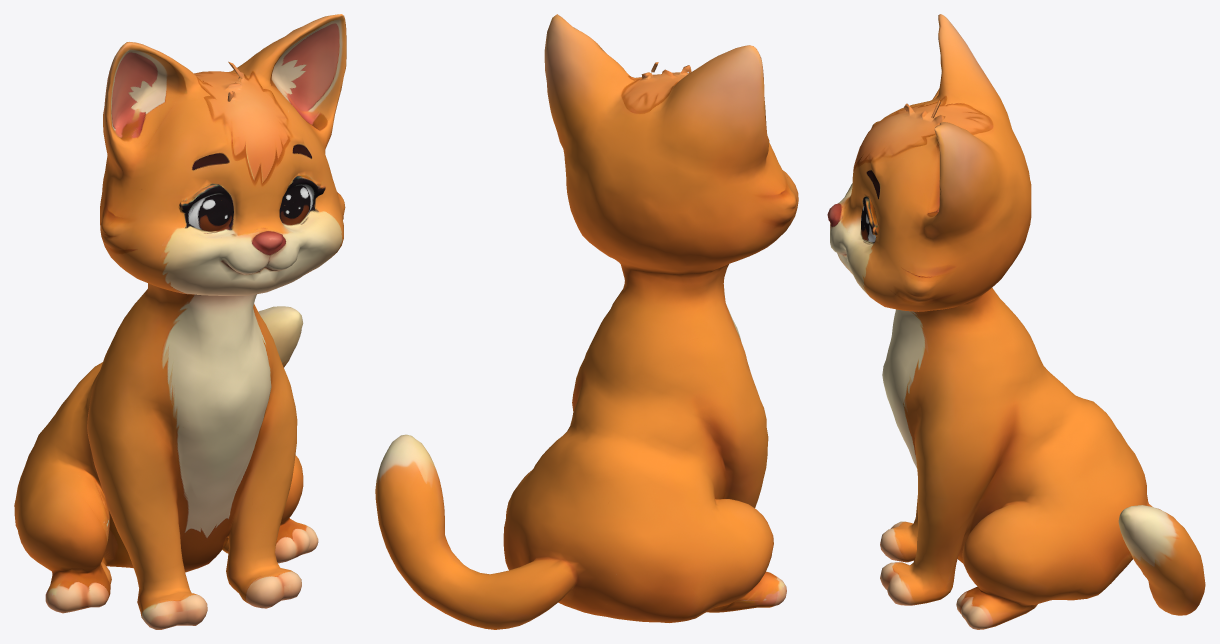
The model's file is lead-cat.glb.
The picture shows the model from 3 angles, left to right: view 1: azimuth 30°, elevation 25°; view 2: azimuth 150°, elevation 25°; view 3: azimuth 270°, elevation 25°; orthographic projection. The views are drawn at different scales.
Size of the model in its own units: 1.18 by 1.91 by 1.24.
1 material, 1 textured.
